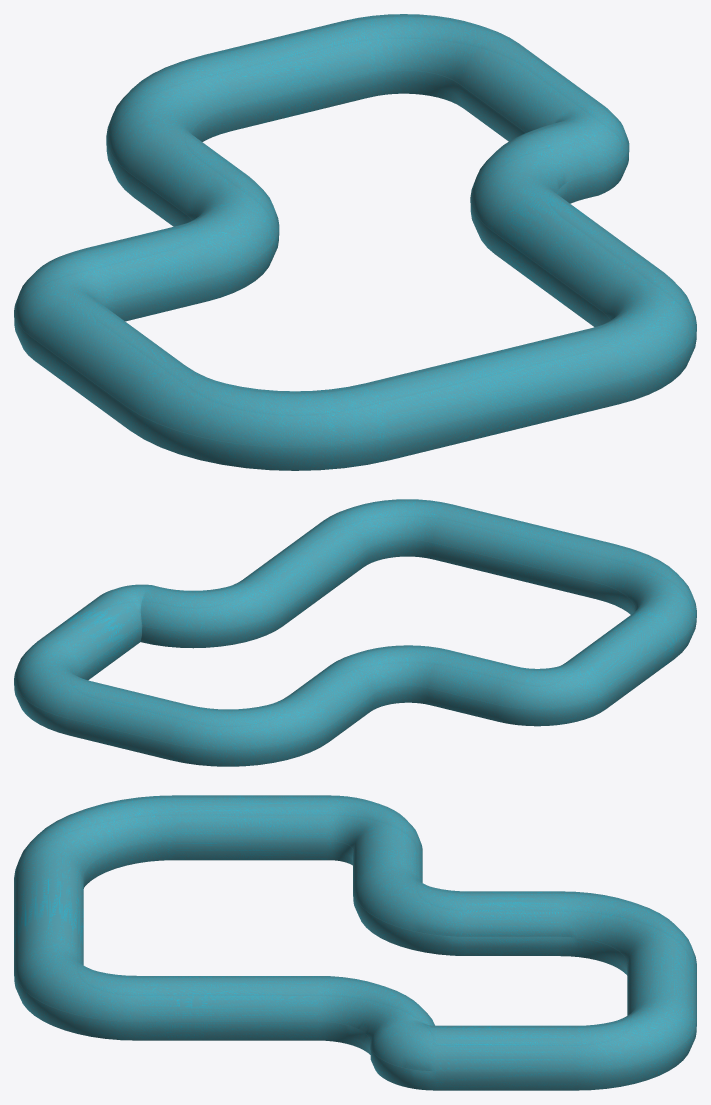
The model's file is aquarium.dae.
3 renders of one model, top to bottom at view 1: azimuth 30°, elevation 25°; view 2: azimuth 150°, elevation 25°; view 3: azimuth 270°, elevation 25°, orthographic. The views are drawn at different scales.
Parts seen in each view (by area): view 1: Component_3; view 2: Component_3; view 3: Component_3.
Part boxes in pixels (bbox=[...]): Component_3: bbox=[14, 14, 696, 470]; Component_3: bbox=[14, 499, 696, 766]; Component_3: bbox=[14, 795, 696, 1090].
Bounding box in the file's own units: 1275 × 1416 × 112.
